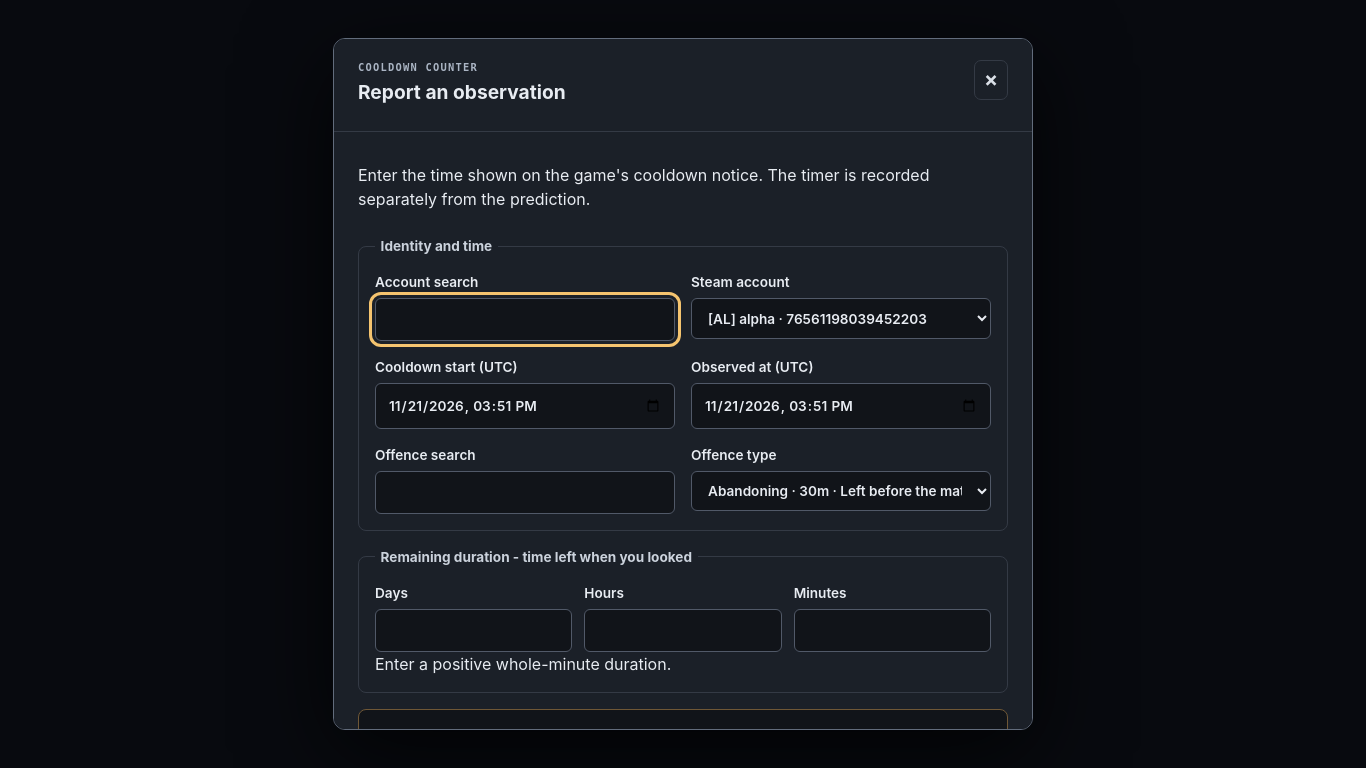
Scenario: flags an impossible ordinary timer in both the draft and saved history
Later steps or results of the test are not shown.
Type "8" into the number field labelled "Days" at (474, 631), box [375,609,572,652]
(page scrolled)
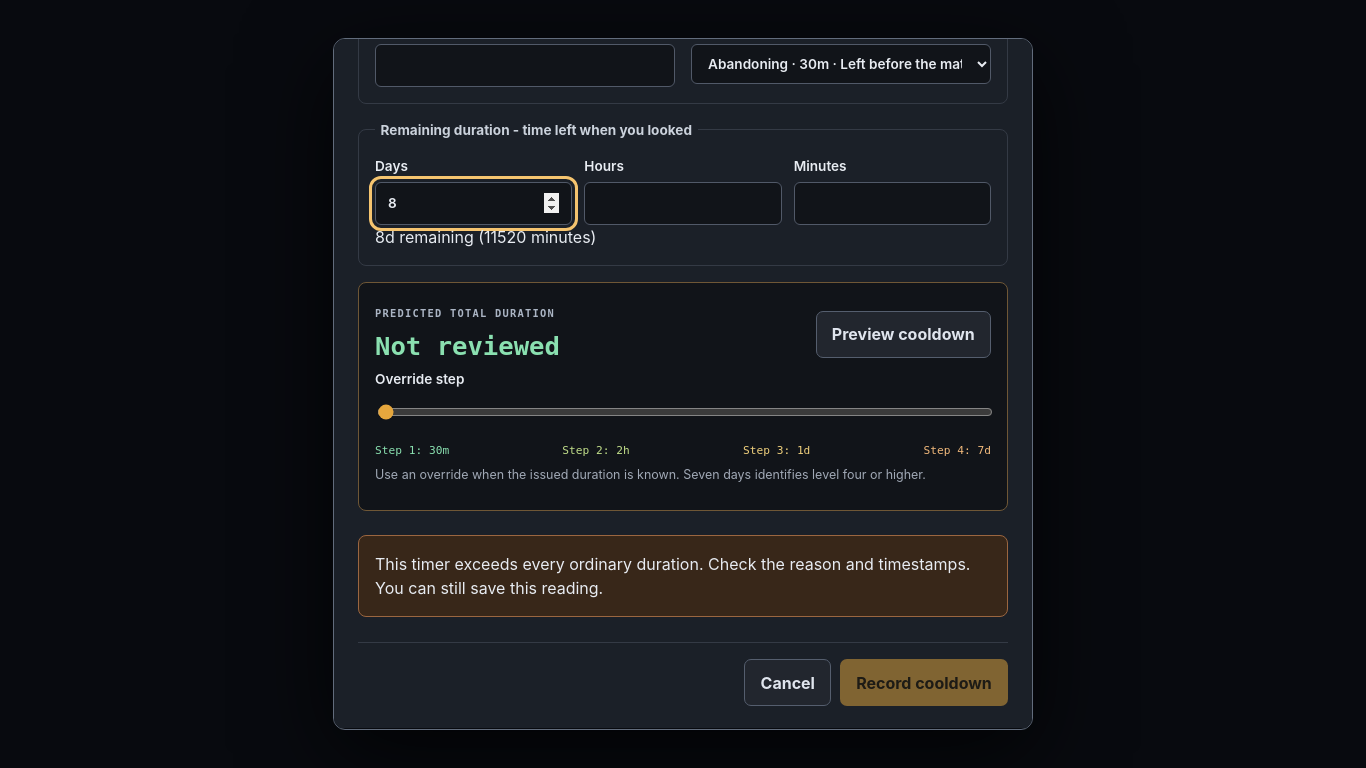
Now the text "This timer exceeds every ordinary duration" is shown, box [375,554,970,574]
